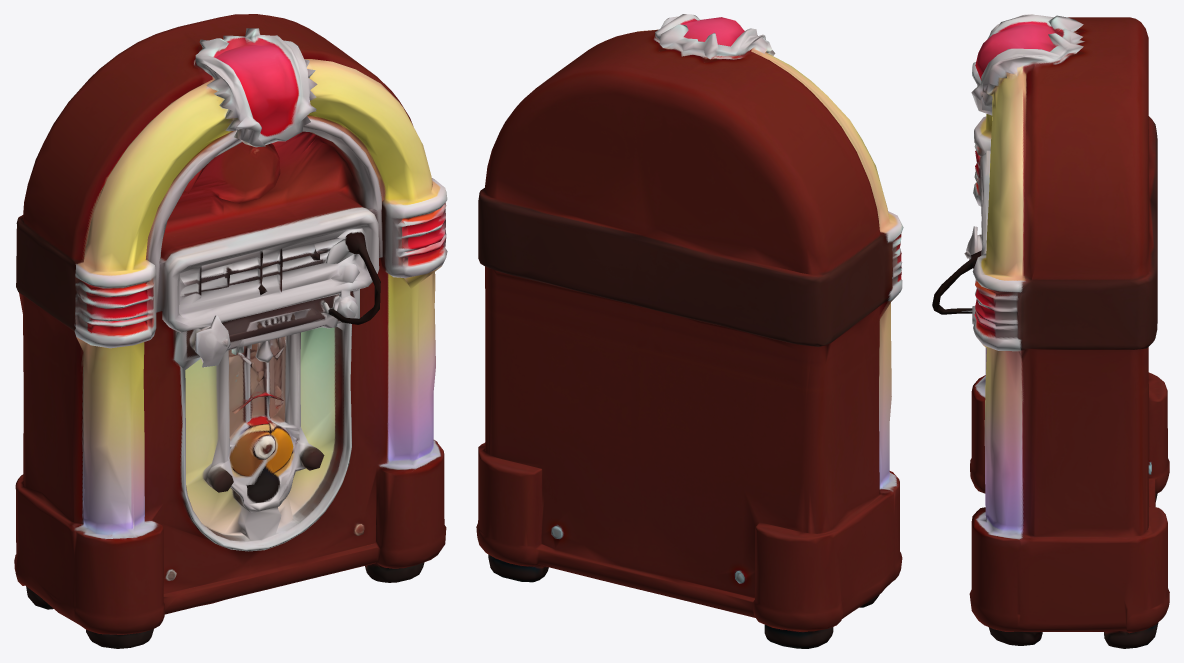
File: jukebox.glb
3 renders of one model, left to right at view 1: azimuth 30°, elevation 25°; view 2: azimuth 150°, elevation 25°; view 3: azimuth 270°, elevation 25°, orthographic. The views are drawn at different scales.
Visible parts, largest first — view 1: tripo_node_c702be43-5feb-4fb1-b5c0-3544e55bab9b; view 2: tripo_node_c702be43-5feb-4fb1-b5c0-3544e55bab9b; view 3: tripo_node_c702be43-5feb-4fb1-b5c0-3544e55bab9b.
Boxes of the visible parts, bbox=[...] form: tripo_node_c702be43-5feb-4fb1-b5c0-3544e55bab9b: bbox=[14, 14, 447, 648]; tripo_node_c702be43-5feb-4fb1-b5c0-3544e55bab9b: bbox=[476, 14, 903, 648]; tripo_node_c702be43-5feb-4fb1-b5c0-3544e55bab9b: bbox=[932, 14, 1169, 648].
Size of the model in its own units: 0.684 by 0.9833 by 0.3883.
Materials: 1 (1 with a texture image).
